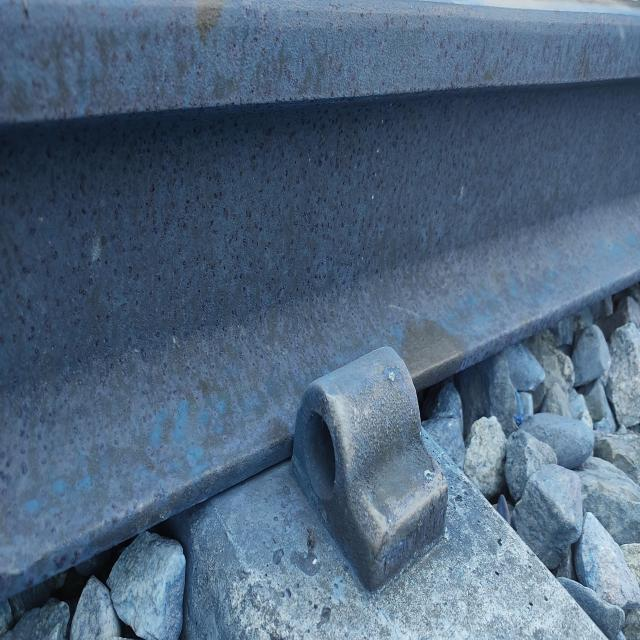Missing Fastener: (269, 297, 456, 598)
